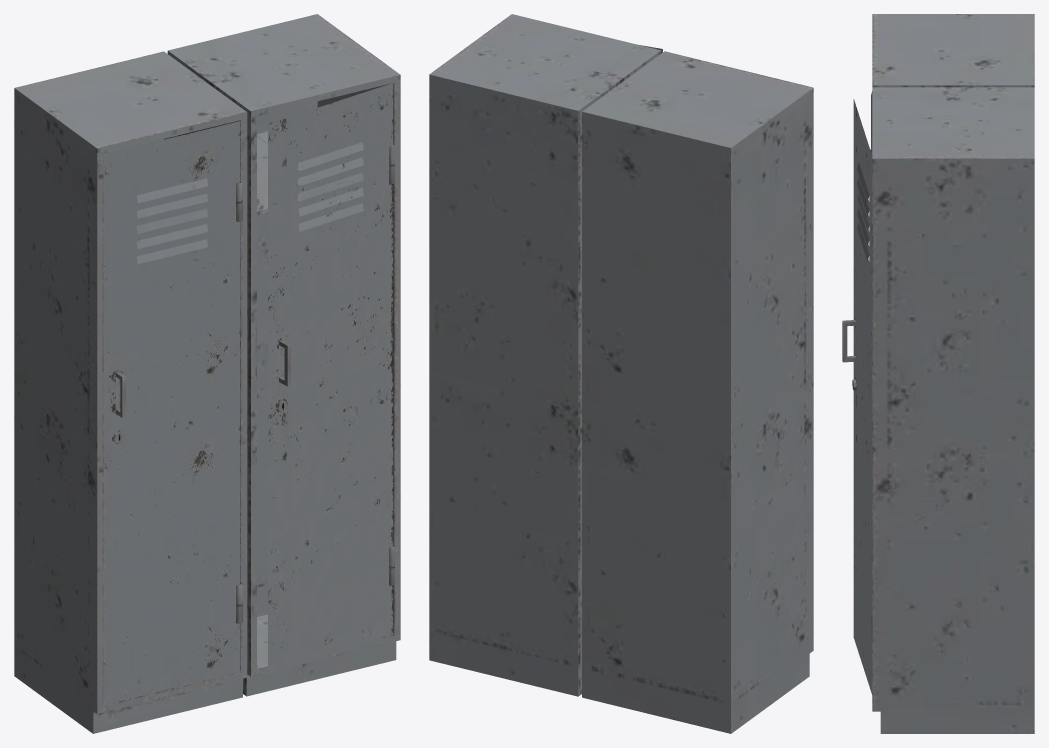
The model's file is armoire.glb.
The picture shows the model from 3 angles, left to right: view 1: azimuth 30°, elevation 25°; view 2: azimuth 150°, elevation 25°; view 3: azimuth 270°, elevation 25°; orthographic projection. The views are drawn at different scales.
Parts seen in each view (by area): view 1: Cube.003, Cube.001, Cylinder.000; view 2: Cube.001; view 3: Cube.001, Cube.003, Cylinder.000.
Boxes of the visible parts, x1,y1,x2,y2 form: Cube.003: [103, 83, 393, 705]; Cube.001: [14, 14, 400, 733]; Cylinder.000: [113, 145, 394, 623]; Cube.001: [429, 14, 813, 733]; Cube.001: [872, 14, 1034, 733]; Cube.003: [853, 91, 872, 694]; Cylinder.000: [842, 148, 872, 652].
Size of the model in its own units: 1.02 by 1.9 by 0.5764.
3 materials, 3 textured.
